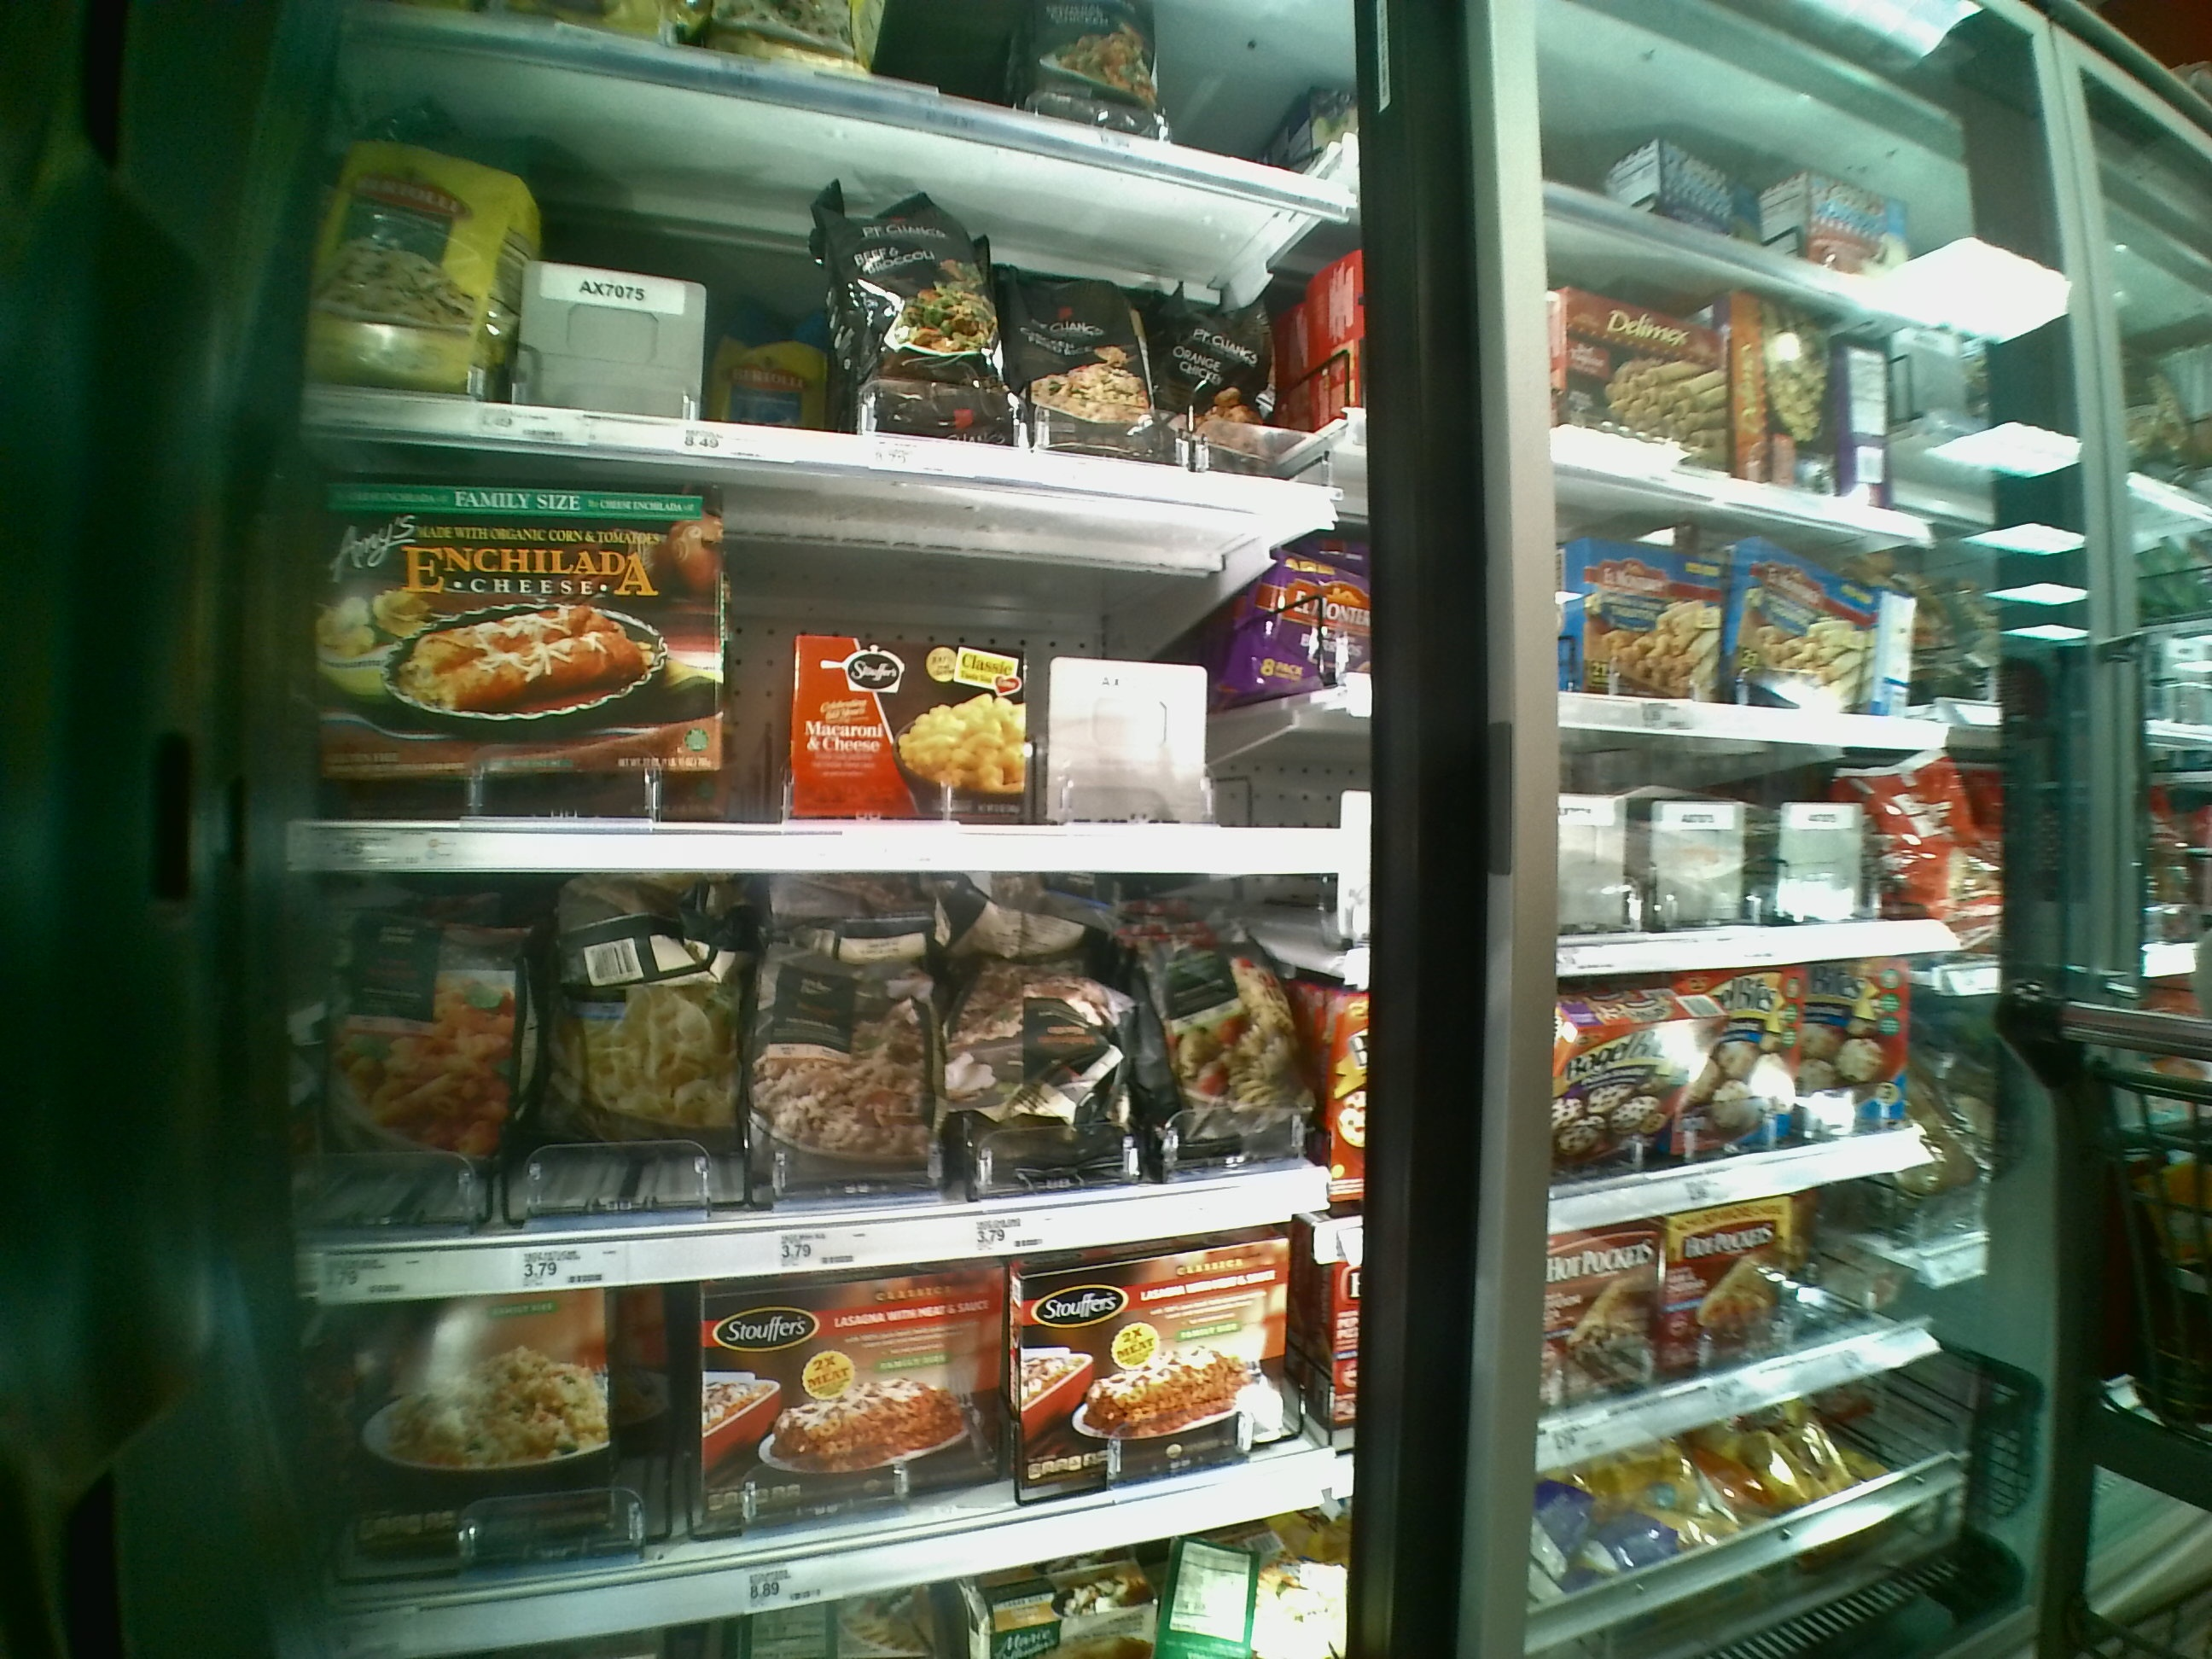shelf: (310, 465, 1362, 880), (336, 120, 1346, 500), (301, 897, 1334, 1269), (336, 1267, 1355, 1598)
